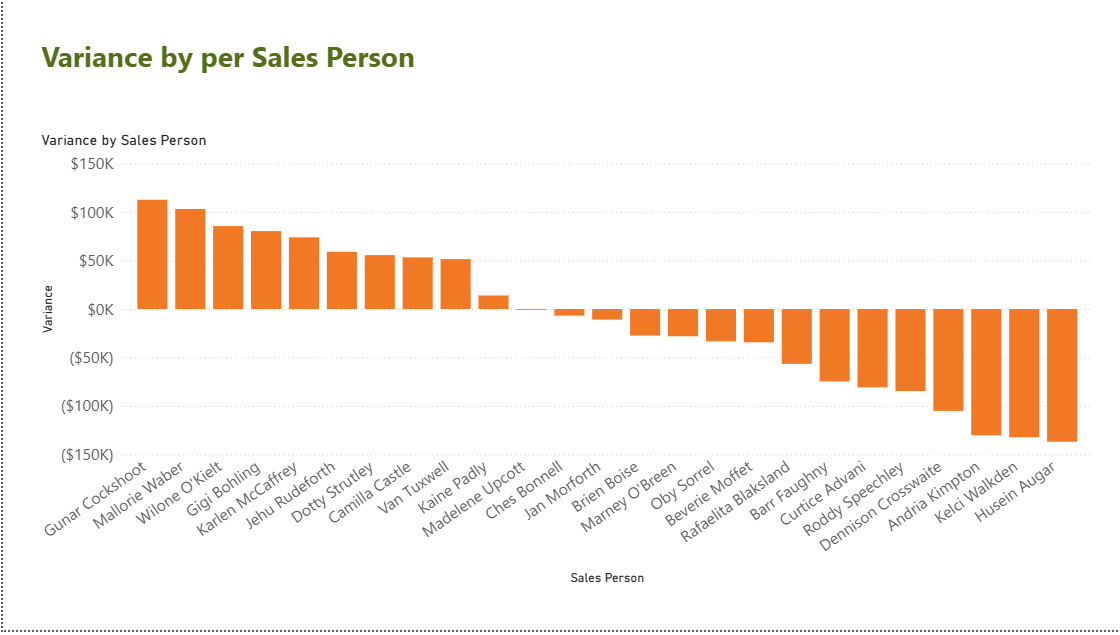

The dashboard page shown, as its layout file describes it:
{"tool":"powerbi","page":{"name":"Variance by Graph","canvas":[1280,720],"ordinal":1},"visuals":[{"type":"clusteredColumnChart","fields":{"Category":["DSalesPersons.Sales Person"],"Y":["actuals.Variance"]},"box":[37.9,150.4,1211.8,523.4],"z":0},{"type":"textbox","box":[37.9,36.7,814.4,84.4],"z":1000}]}

Visuals, with their boxes in screenshot pixels (x1, y1, x2, y2), scaled from the page's 1280x720 canvas onto the 1120x635 screenshot:
clusteredColumnChart - DSalesPersons.Sales Person x actuals.Variance: box(33, 133, 1093, 594)
textbox: box(33, 32, 746, 107)
